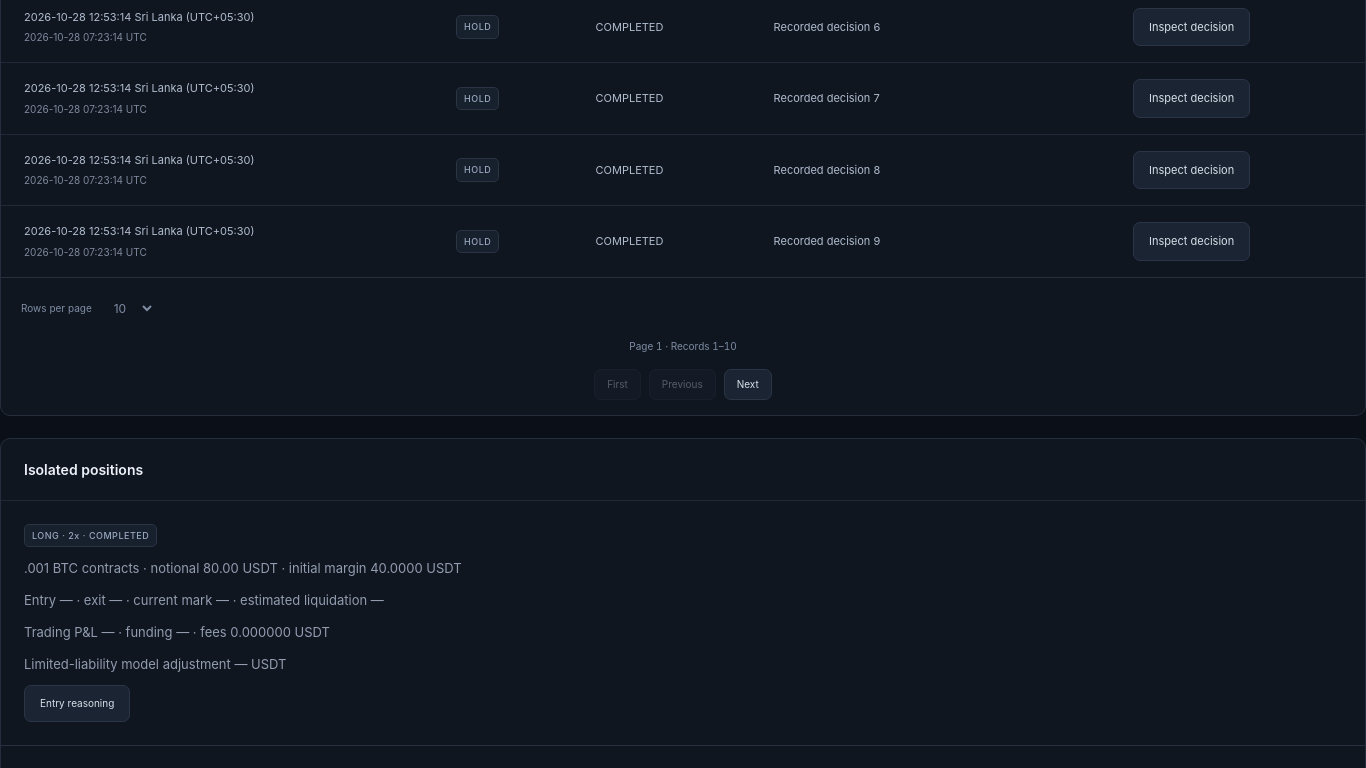
Test case: allows returning from a failed page without moving the other journals
(page scrolled)
Click the button "Next" at (748, 384), box [724, 369, 772, 400]
(page scrolled)
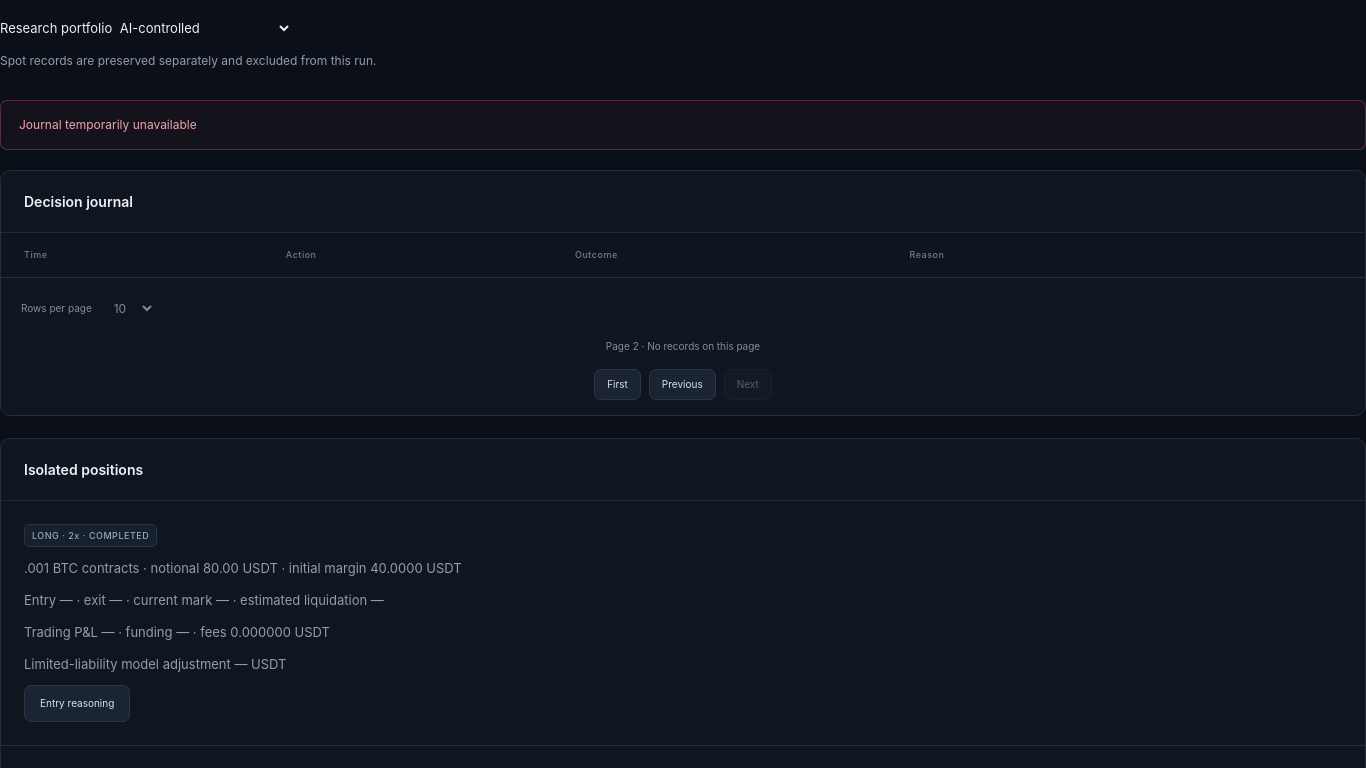
Check: the text "Journal temporarily unavailable" is shown, box [0, 100, 1365, 150]
Check: the button "Next" is disabled, box [724, 369, 772, 400]
Click the button "Previous" at (682, 384), box [649, 369, 716, 400]
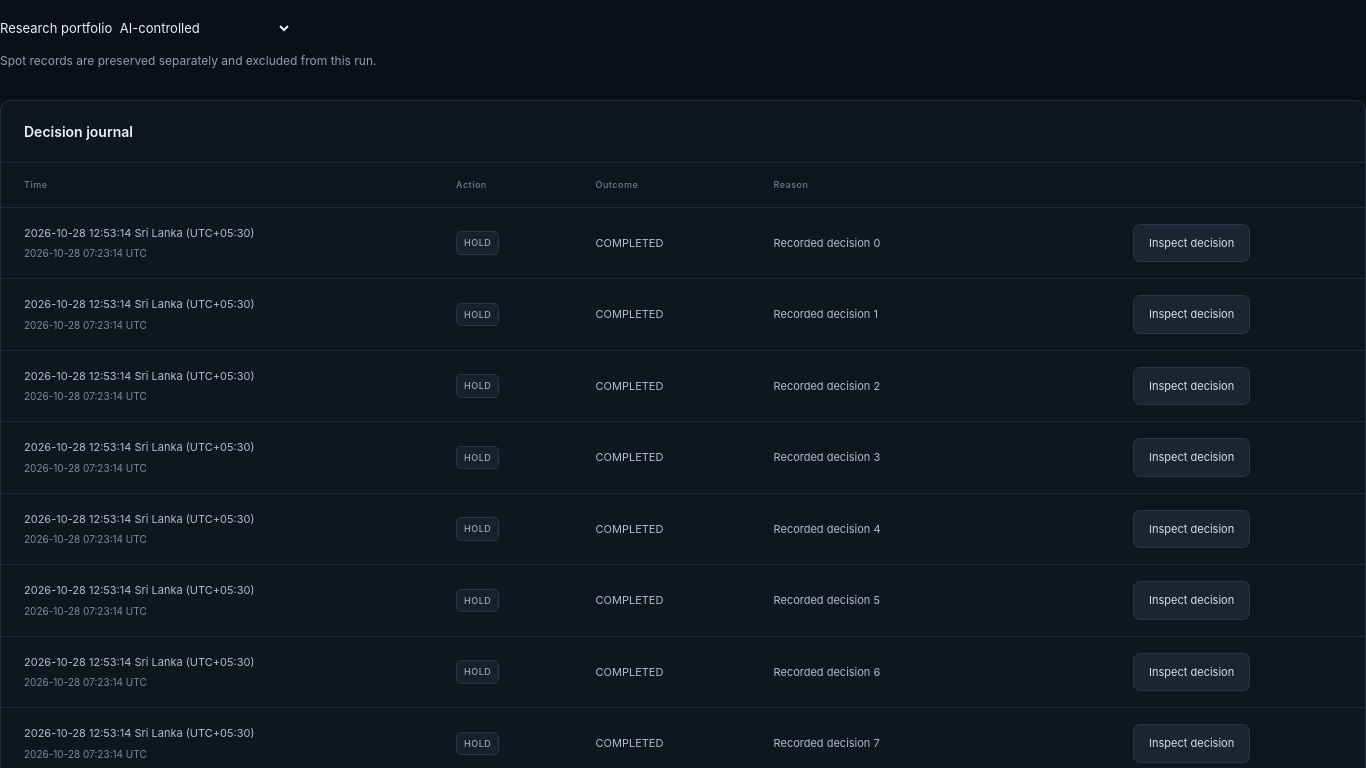
Check: the text "Recorded decision 0" is shown, box [750, 207, 1110, 279]
